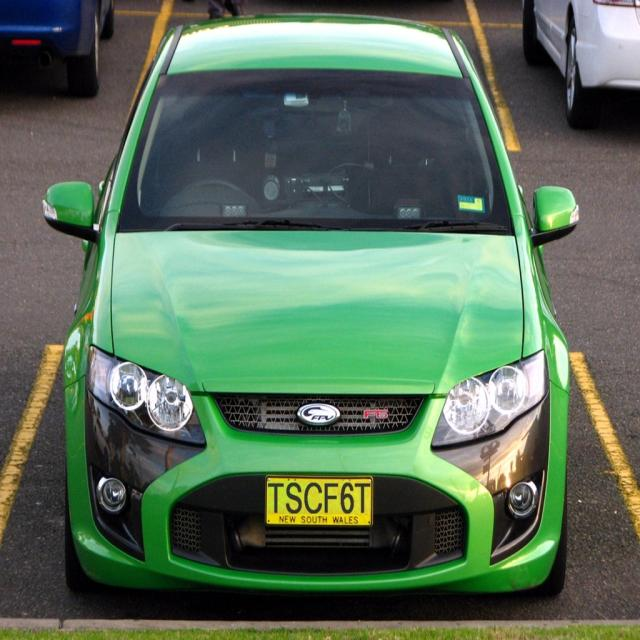car: (25, 29, 566, 606)
